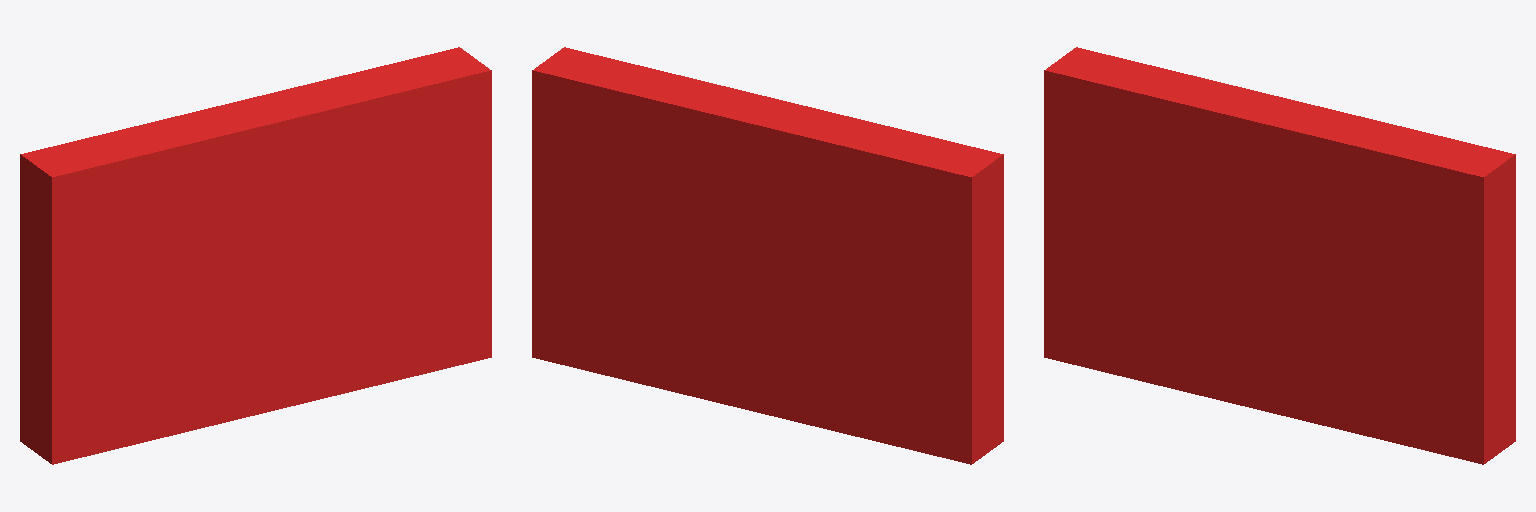
The robot description file, URDF, robot "wall 1":
<?xml version="1.0"?>
<robot name="wall 1">
    <!-- Colors -->
    <material name="red">
        <color rgba="0.941 0.204 0.204 1"/>
    </material>

    <!-- Wall -->
    <link name="base_link">
        <visual>
            <geometry>
                <box size="4 0.5 2.5" />
                <origin rpy="0 0 0" xyz="0 0 0"/>
            </geometry>
            <material name="red"/>
        </visual>

        <collision>
             <geometry>
                <box size="4 0.5 2.5" />
                <origin rpy="0 0 0" xyz="0 0 0"/>
            </geometry>
        </collision>
        <inertial>
            <mass value="0"/>
            <inertia ixx="0" ixy="0" ixz="0" iyy="0" iyz="0" izz="0"/>
        </inertial>
    </link>
</robot>

--- What the picture shows (computed from the rendered views, not written in the file) ---
The picture shows the robot from 3 angles, left to right: view 1: azimuth 30°, elevation 25°; view 2: azimuth 150°, elevation 25°; view 3: azimuth 330°, elevation 25°; orthographic projection.
Model wall 1 with 1 links and 0 joints (none), rooted at base_link, posed all joints at 0.
Links seen in each view (by area): view 1: base_link; view 2: base_link; view 3: base_link.
Link boxes in pixels (x1,y1,x2,y2): base_link: (20,47,491,464); base_link: (532,47,1003,464); base_link: (1044,47,1515,464).
Bounding box of the posed robot: 4 × 0.5 × 2.5 m (x, y, z).
Geometry: primitives only (box / cylinder / sphere), no mesh files.